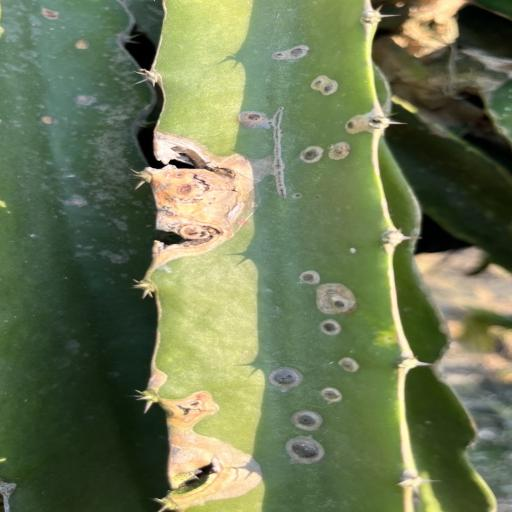stemcanker: (28, 89, 101, 130), (37, 4, 89, 55), (56, 334, 90, 362), (288, 188, 329, 206), (58, 196, 92, 214), (70, 34, 96, 54), (338, 240, 362, 260), (20, 232, 46, 242), (346, 242, 361, 258), (40, 116, 60, 128), (238, 219, 250, 228)
